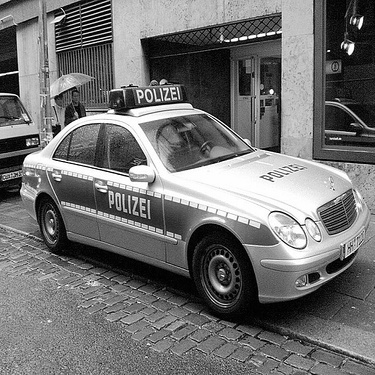car: (15, 79, 371, 316), (310, 93, 373, 153)
